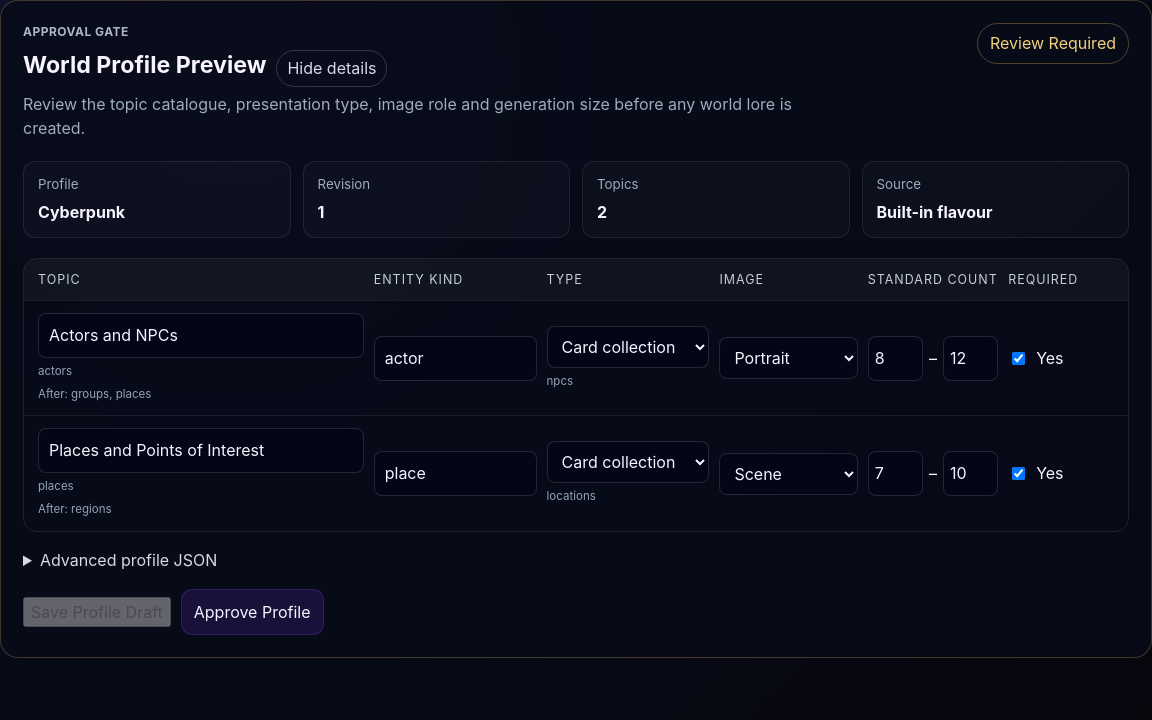
Test: RpgWorldProfilePreview › approves the exact current profile revision
Click the button "Approve Profile": (252, 612) [181,589,324,635]
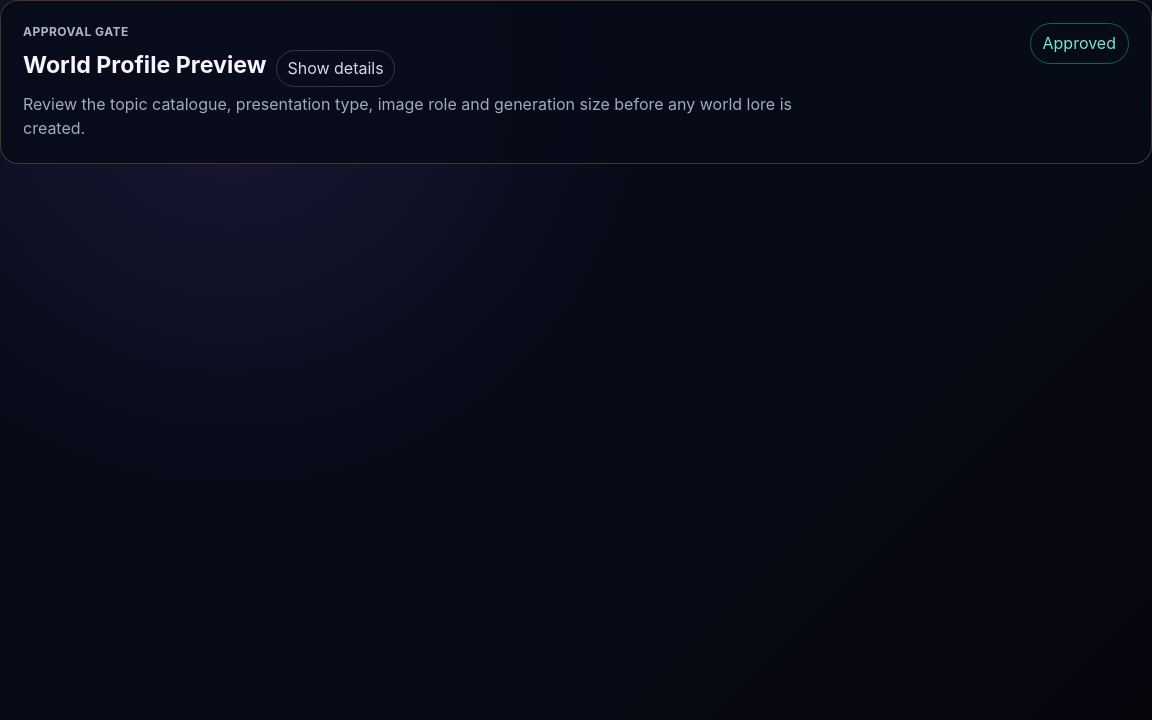
Expected: the button "Show details" is collapsed, [276,50,395,87]
